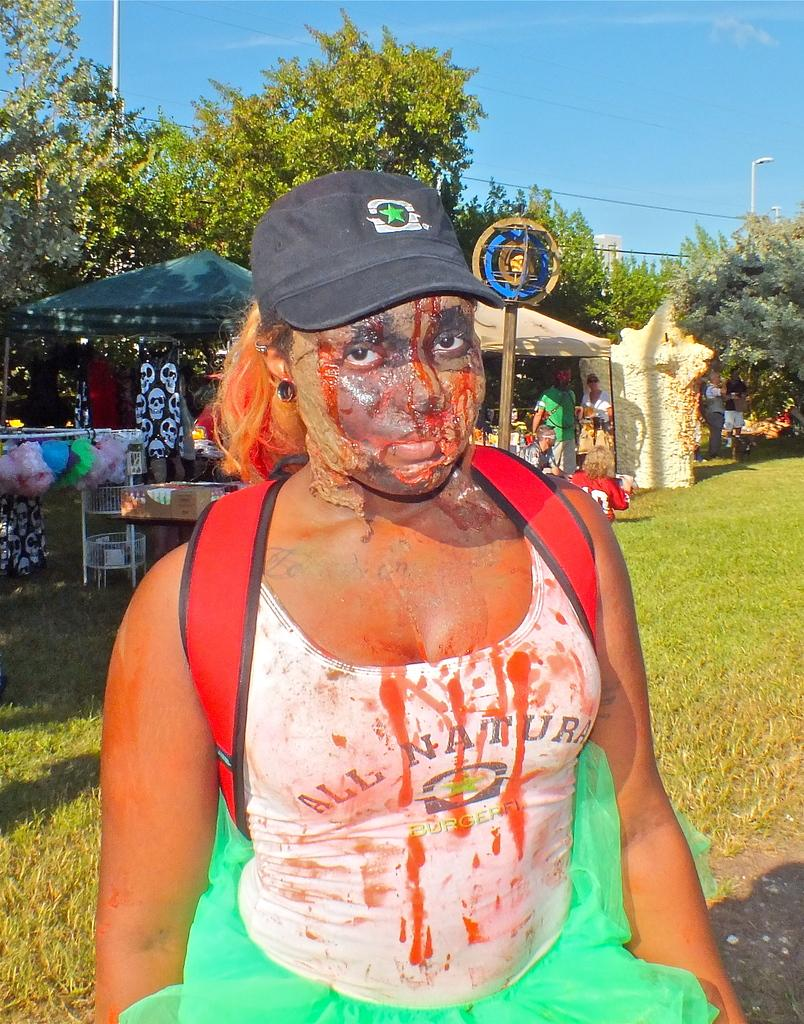Hat: (255, 171, 507, 331)
